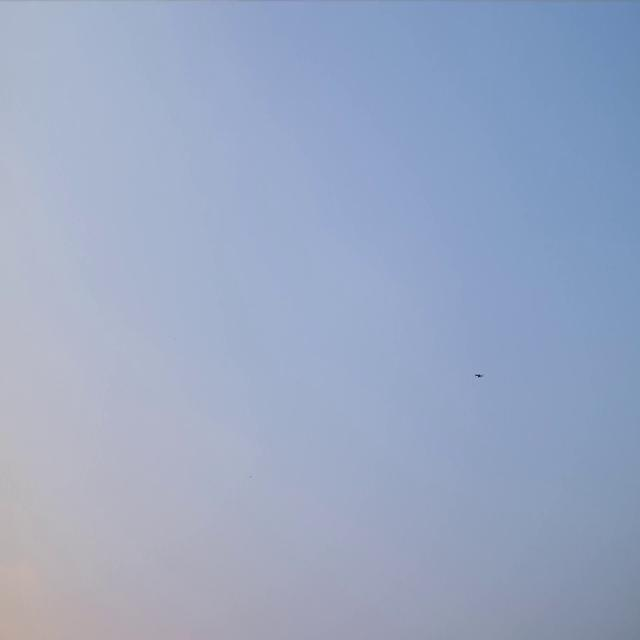UAV: (474, 372, 484, 379)
